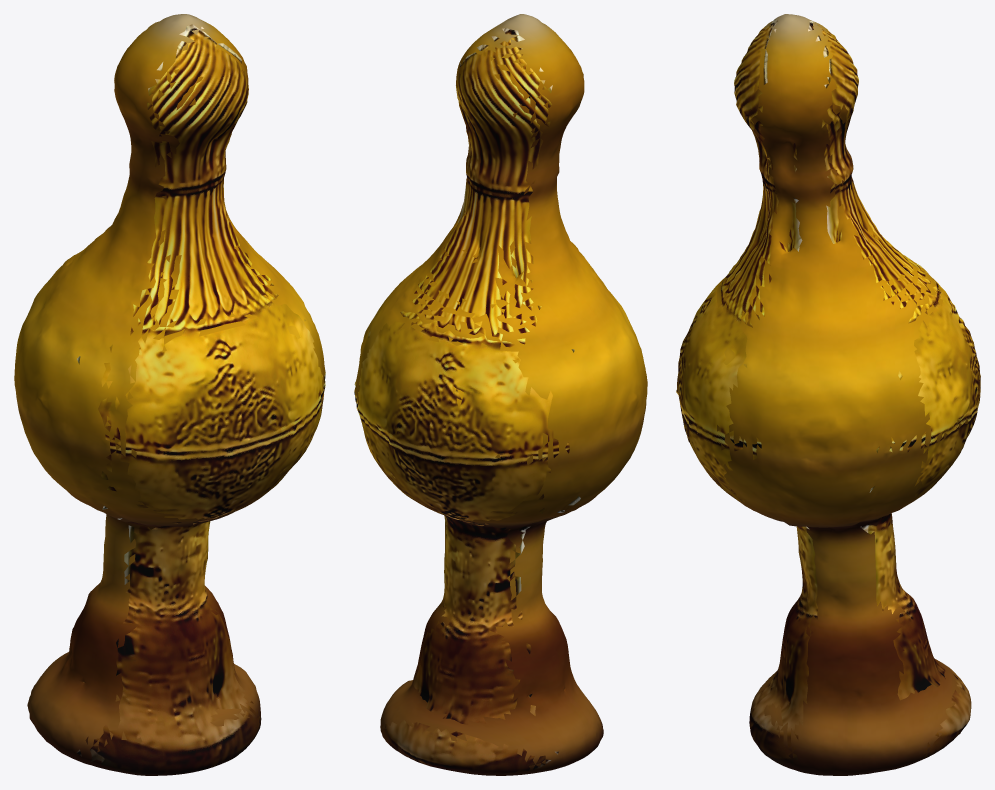
File: kfl-2289.glb
3 views of the same model, side by side, from view 1: azimuth 30°, elevation 25°; view 2: azimuth 150°, elevation 25°; view 3: azimuth 270°, elevation 25° (orthographic). The views are drawn at different scales.
Parts seen in each view (by area): view 1: kfl-2289; view 2: kfl-2289; view 3: kfl-2289.
Boxes of the visible parts, left/top/right/bottom form: kfl-2289: left=14, top=14, right=325, bottom=775; kfl-2289: left=354, top=14, right=647, bottom=775; kfl-2289: left=676, top=14, right=980, bottom=775.
Size of the model in its own units: 0.3748 by 0.9928 by 0.3769.
Materials: 4 (4 with a texture image).
